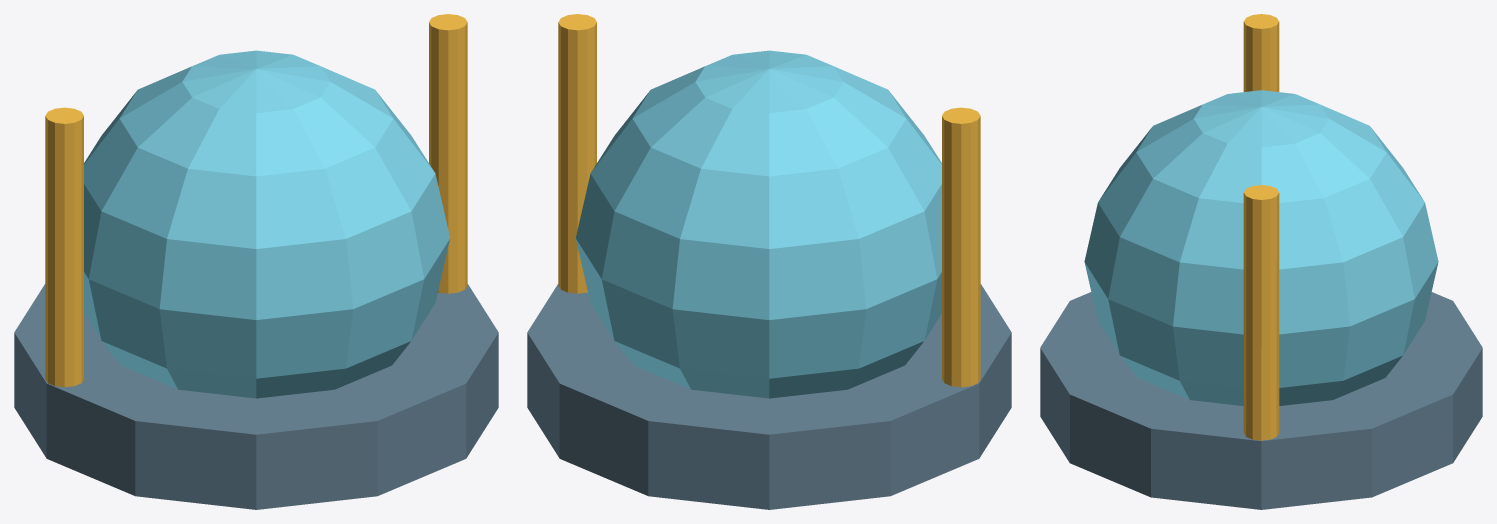
The model's file is IncubatorCore.fbx.
The picture shows the model from 3 angles, left to right: view 1: azimuth 30°, elevation 25°; view 2: azimuth 150°, elevation 25°; view 3: azimuth 270°, elevation 25°; orthographic projection. The views are drawn at different scales.
Parts seen in each view (by area): view 1: Glass, Pedestal, Pylon, Pylon.001; view 2: Glass, Pedestal, Pylon, Pylon.001; view 3: Glass, Pedestal, Pylon.001, Pylon.
Part boxes in pixels (x1=…): Glass: x1=84, y1=50, x2=450, y2=398; Pedestal: x1=14, y1=284, x2=498, y2=509; Pylon: x1=45, y1=107, x2=83, y2=387; Pylon.001: x1=429, y1=14, x2=467, y2=293; Glass: x1=575, y1=50, x2=941, y2=398; Pedestal: x1=527, y1=284, x2=1011, y2=509; Pylon: x1=942, y1=107, x2=980, y2=387; Pylon.001: x1=558, y1=14, x2=596, y2=293; Glass: x1=1084, y1=90, x2=1438, y2=405; Pedestal: x1=1040, y1=292, x2=1482, y2=509; Pylon.001: x1=1243, y1=185, x2=1279, y2=440; Pylon: x1=1243, y1=14, x2=1279, y2=91.
Size of the model in its own units: 700 by 540 by 700.
